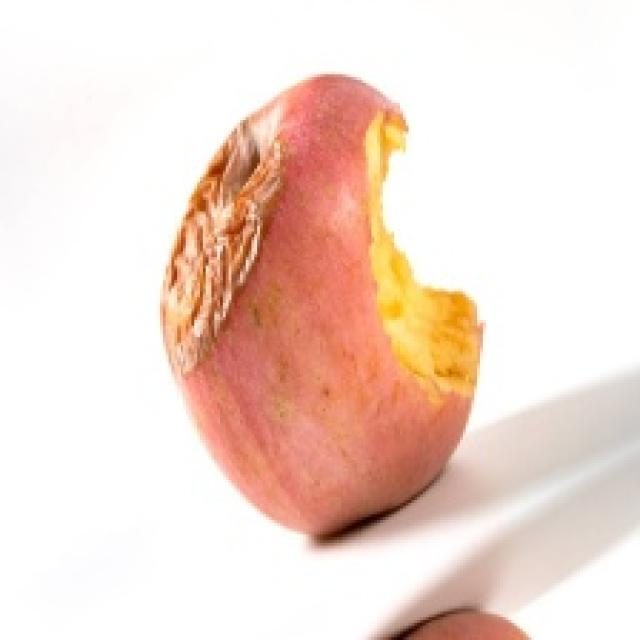rotten_apple: (166, 78, 479, 534)
